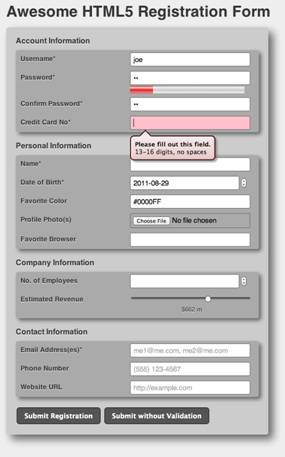button: (102, 406, 211, 428), (13, 406, 103, 426)
textbox: (127, 114, 252, 132), (129, 361, 253, 377), (128, 381, 252, 395), (129, 343, 252, 357), (128, 177, 241, 190)
